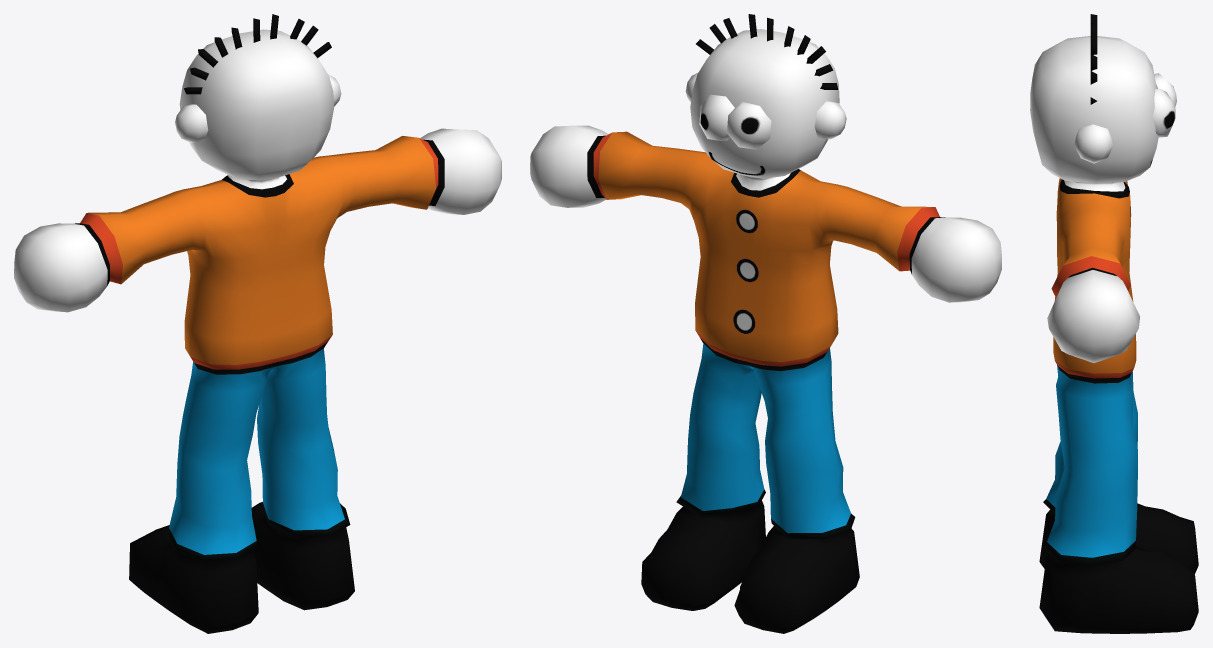
The model's file is Murph.glb.
3 views of the same model, side by side, from view 1: azimuth 30°, elevation 25°; view 2: azimuth 150°, elevation 25°; view 3: azimuth 270°, elevation 25° (orthographic). The views are drawn at different scales.
Parts seen in each view (by area): view 1: MURPH; view 2: MURPH; view 3: MURPH.
Boxes of the visible parts, x1,y1,x2,y2 form: MURPH: (14, 14, 501, 633); MURPH: (530, 14, 1001, 633); MURPH: (1030, 14, 1198, 633).
Size of the model in its own units: 10.35 by 12.16 by 3.25.
Materials: 1 (1 with a texture image).
